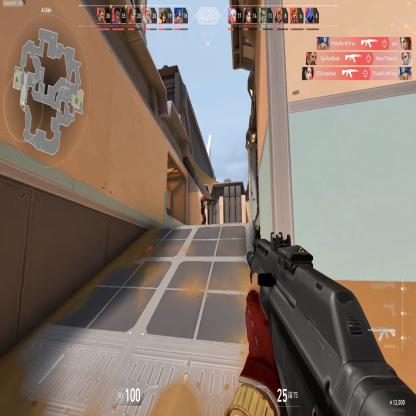enemy: (200, 192, 211, 224)
